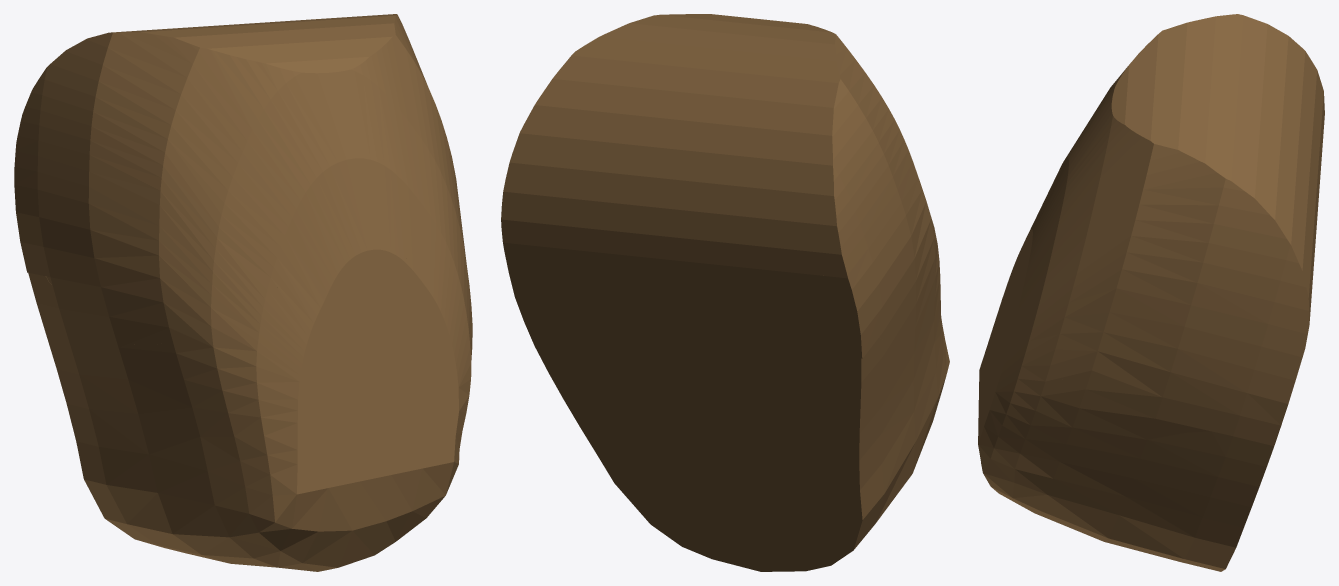
File: RMrot_joint_visu.dae
3 renders of one model, left to right at view 1: azimuth 30°, elevation 25°; view 2: azimuth 150°, elevation 25°; view 3: azimuth 270°, elevation 25°, orthographic. The views are drawn at different scales.
Parts seen in each view (by area): view 1: node; view 2: node; view 3: node.
Boxes of the visible parts, x1,y1,x2,y2 form: node: [14, 14, 472, 571]; node: [501, 14, 949, 571]; node: [978, 14, 1324, 571].
Bounding box in the file's own units: 0.0536 × 0.0758 × 0.0482.
